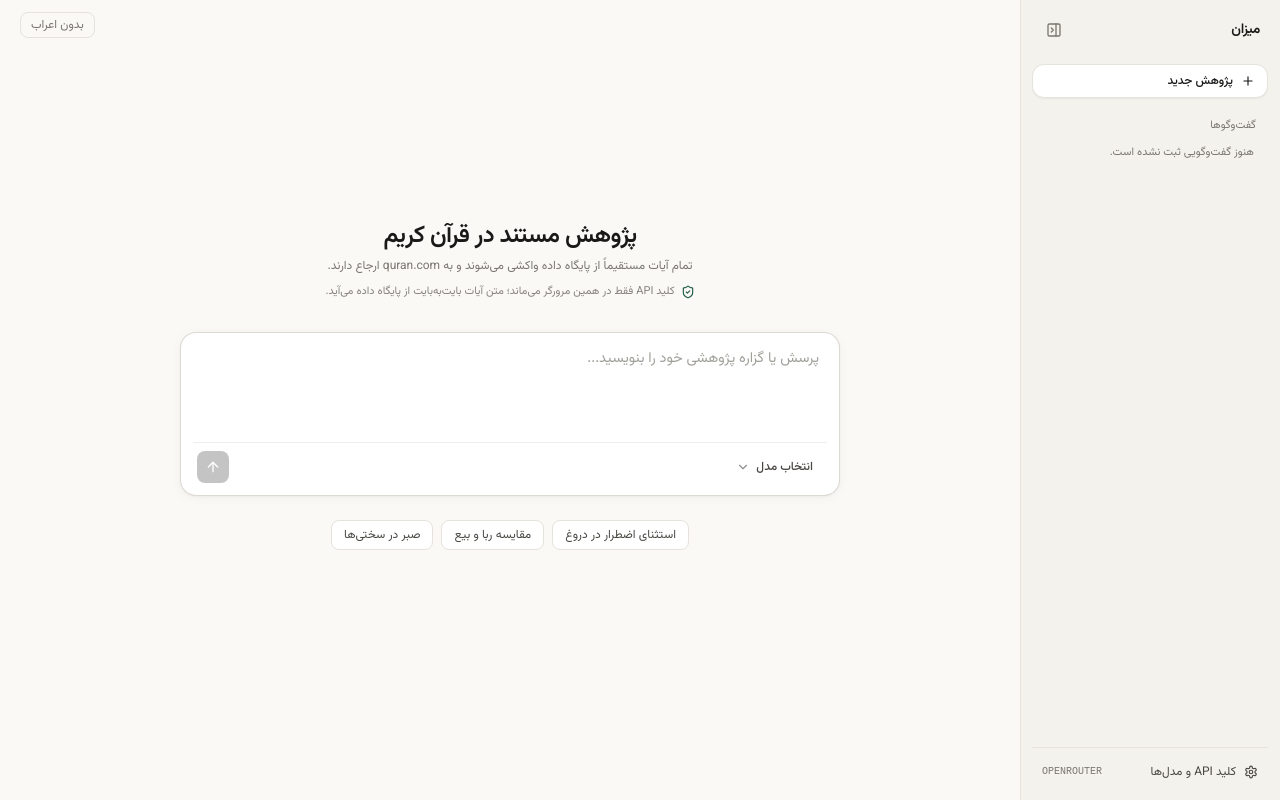
App › opens the BYOK modal when sending without a key
Step 1. Click the button "استثنای اضطرار در دروغ" → (621, 535), box 552,520 -> 689,550
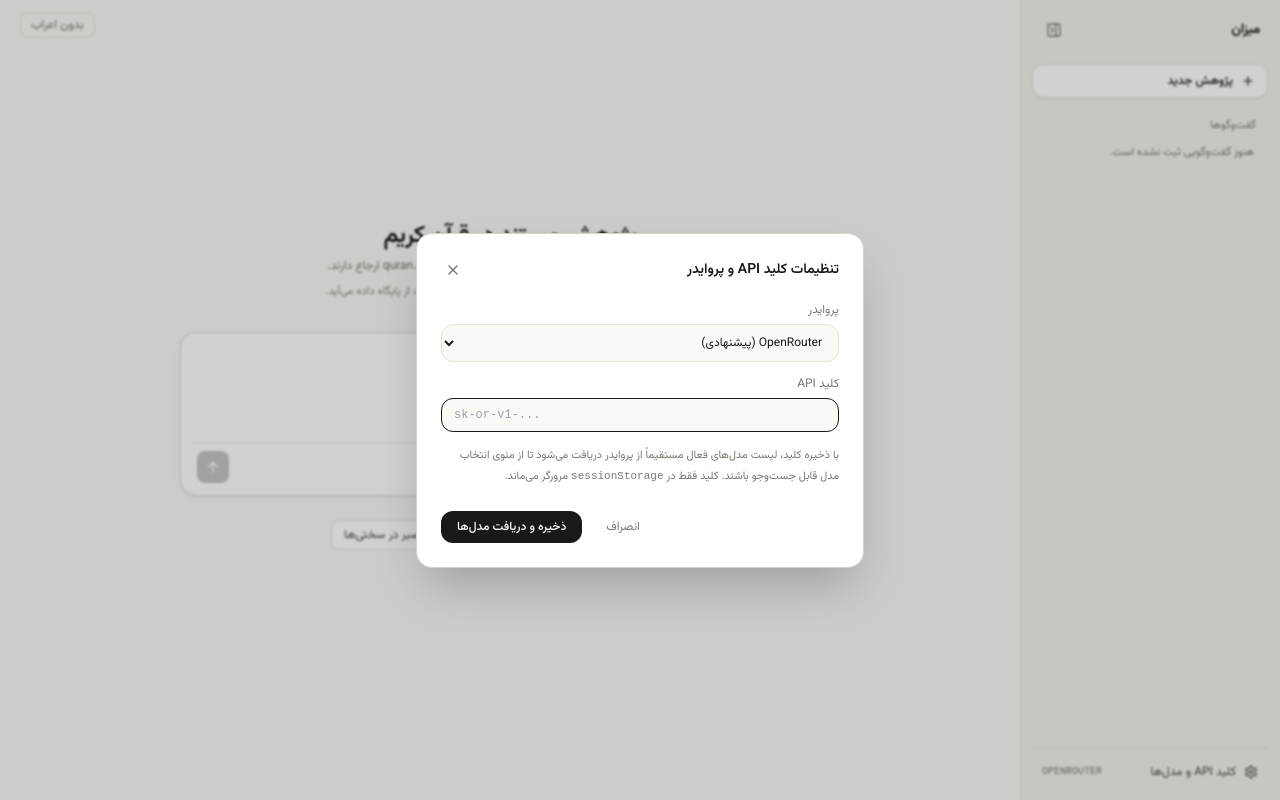
Now the heading "تنظیمات کلید API و پروایدر" is shown, box 687,260 -> 839,280
